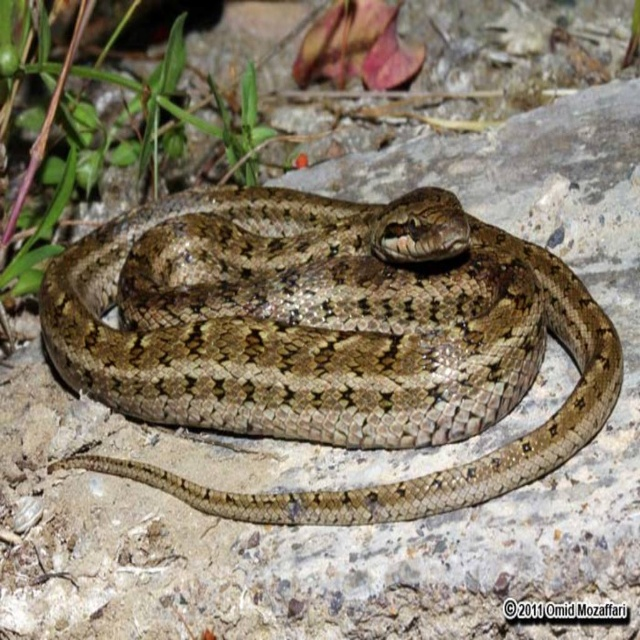Snake: (44, 184, 623, 529)
